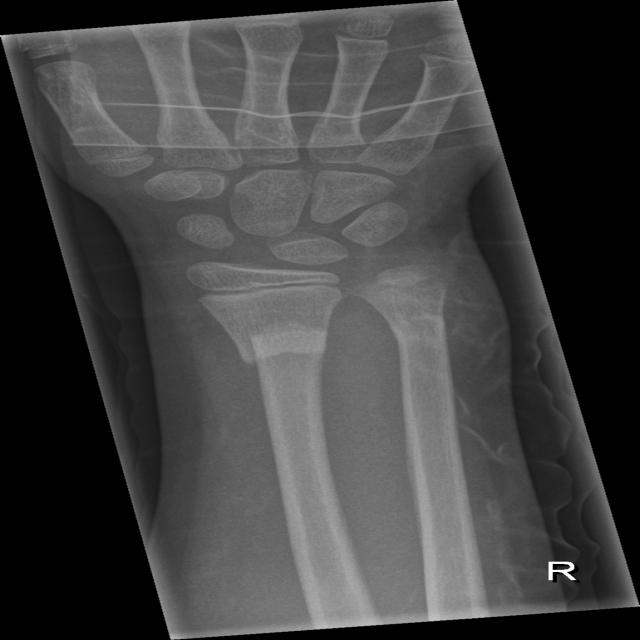radius fracture: (208, 312, 362, 495)
